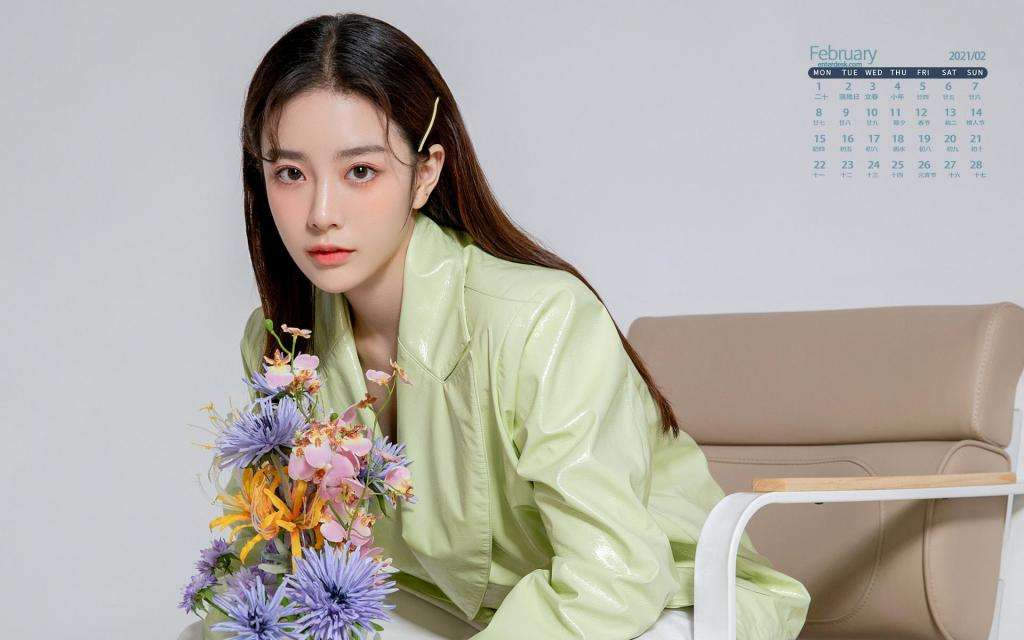person: (134, 32, 692, 566)
